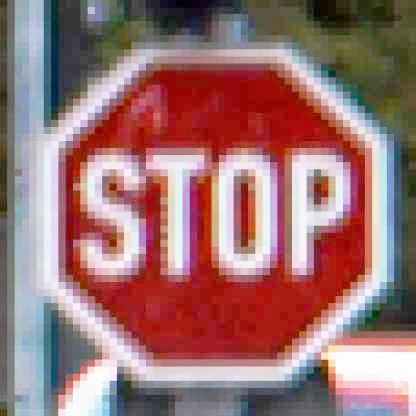Stop Sign: (38, 37, 398, 382)
